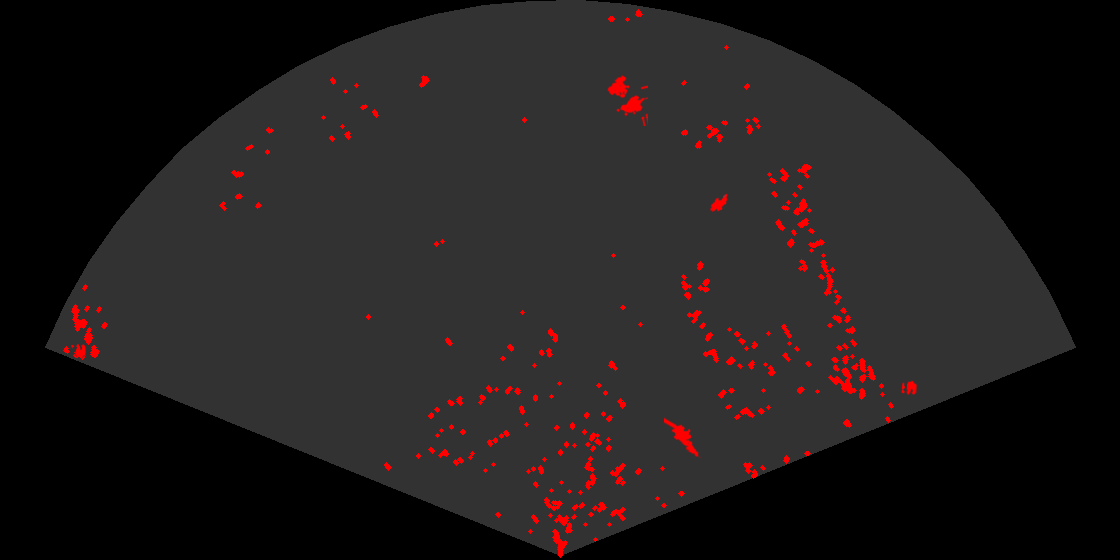AUV: (708, 192, 730, 213)
ball: (900, 379, 918, 396), (70, 343, 87, 359)
cage: (606, 74, 648, 126)
frogman: (664, 417, 703, 458)
